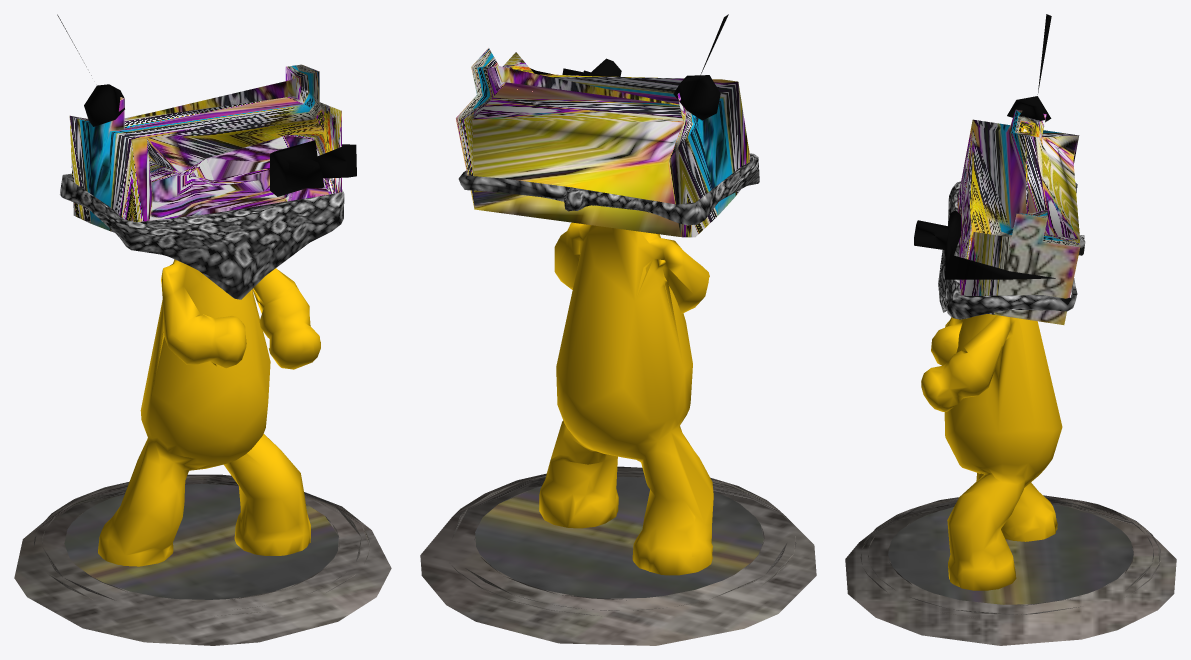
The picture shows the model from 3 angles, left to right: view 1: azimuth 30°, elevation 25°; view 2: azimuth 150°, elevation 25°; view 3: azimuth 270°, elevation 25°; orthographic projection. The views are drawn at different scales.
Bounding box in the file's own units: 1.44 × 2.38 × 1.41.
6 materials, 4 textured.
